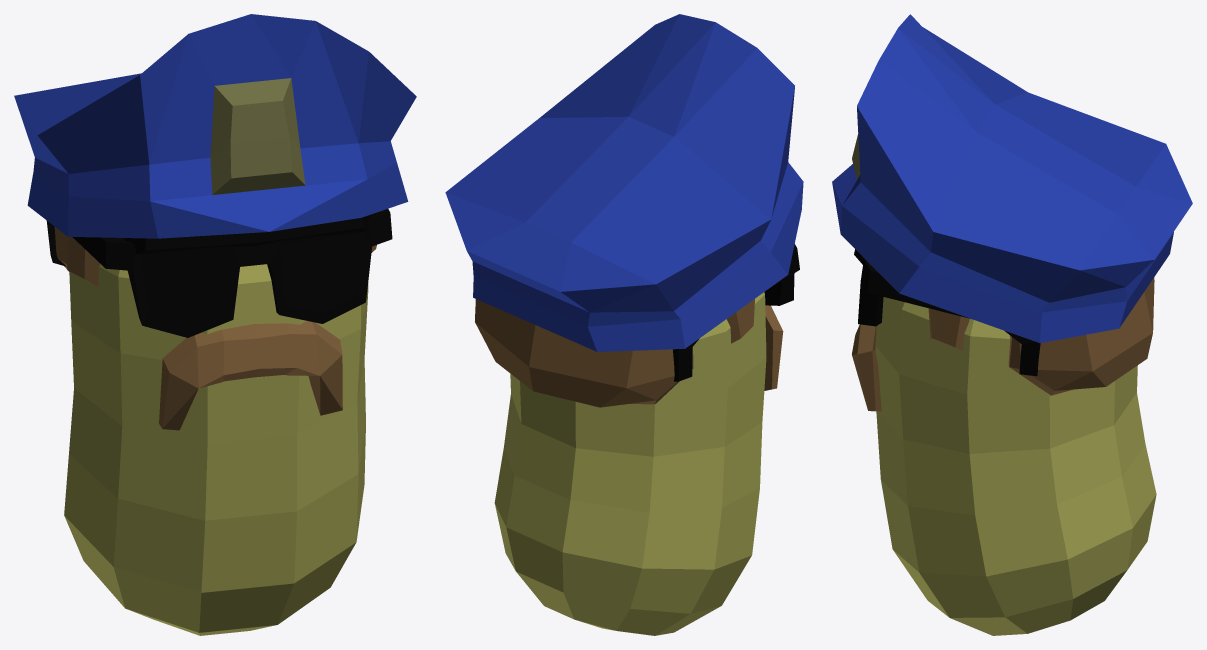
The model's file is minion_lowpoly.fbx.
3 views of the same model, side by side, from view 1: azimuth 30°, elevation 25°; view 2: azimuth 150°, elevation 25°; view 3: azimuth 270°, elevation 25° (orthographic). The views are drawn at different scales.
Parts seen in each view (by area): view 1: CapsuleCop; view 2: CapsuleCop; view 3: CapsuleCop.
Part boxes in pixels (<box>): CapsuleCop: <box>14,14,416,635</box>; CapsuleCop: <box>445,14,803,635</box>; CapsuleCop: <box>832,14,1192,635</box>.
Size of the model in its own units: 118 by 212 by 120.
